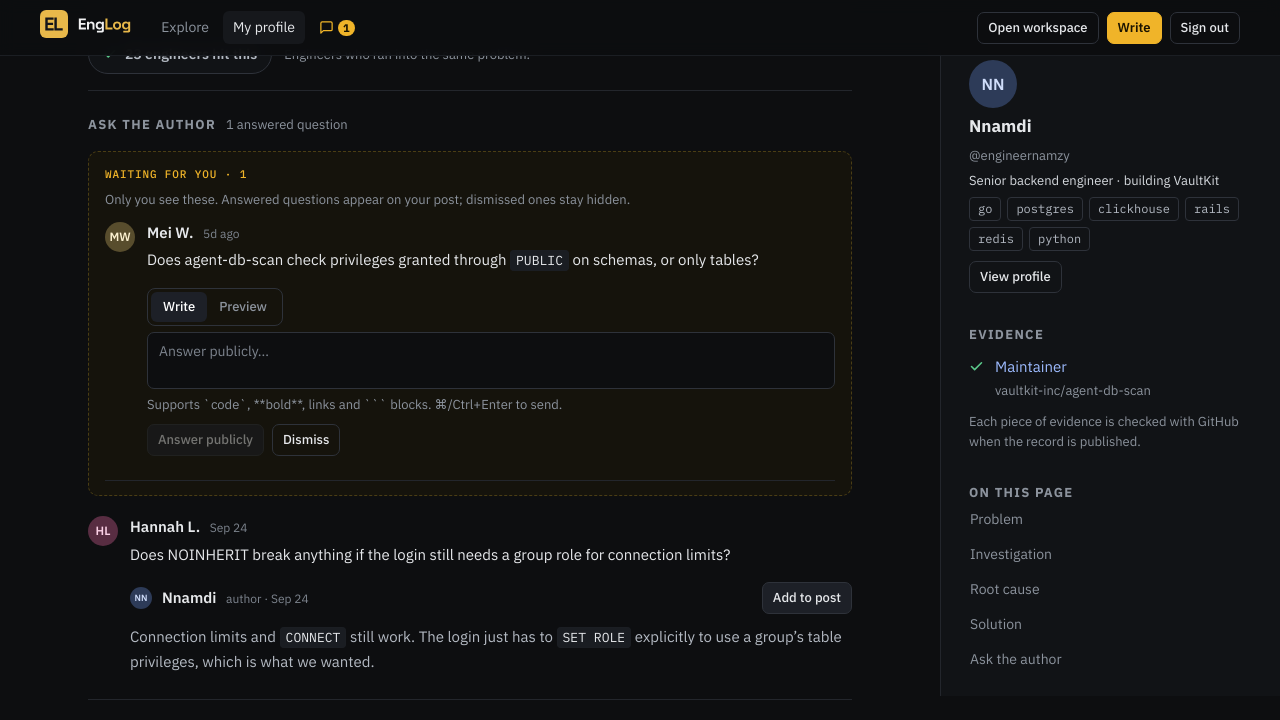
it: community features in the app › lets the author answer a waiting question and add it to the post
(page scrolled)
Expected: the text "Waiting for you · 1" is shown, [105, 167, 247, 181]
Type "Yes, schemas too." into the text box named "Your answer" at (491, 360), box [147, 332, 835, 388]
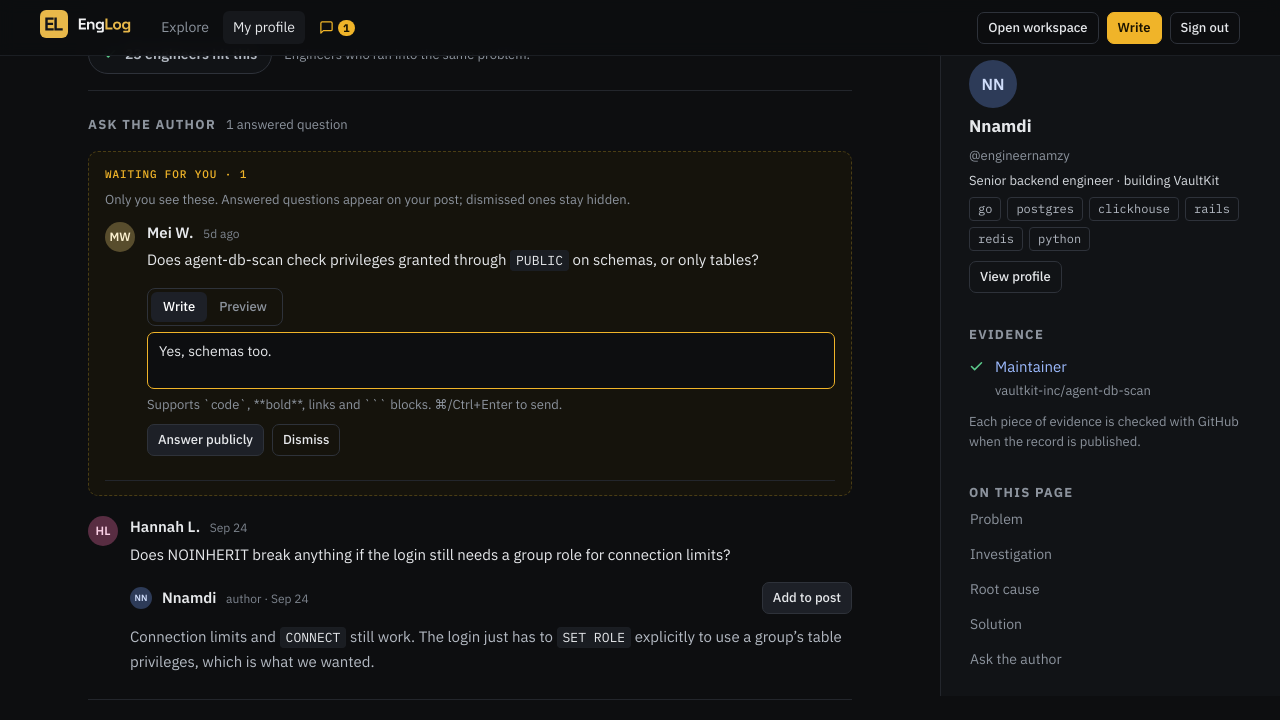
Click the button "Answer publicly" at (206, 440), box [147, 424, 264, 456]
(page scrolled)
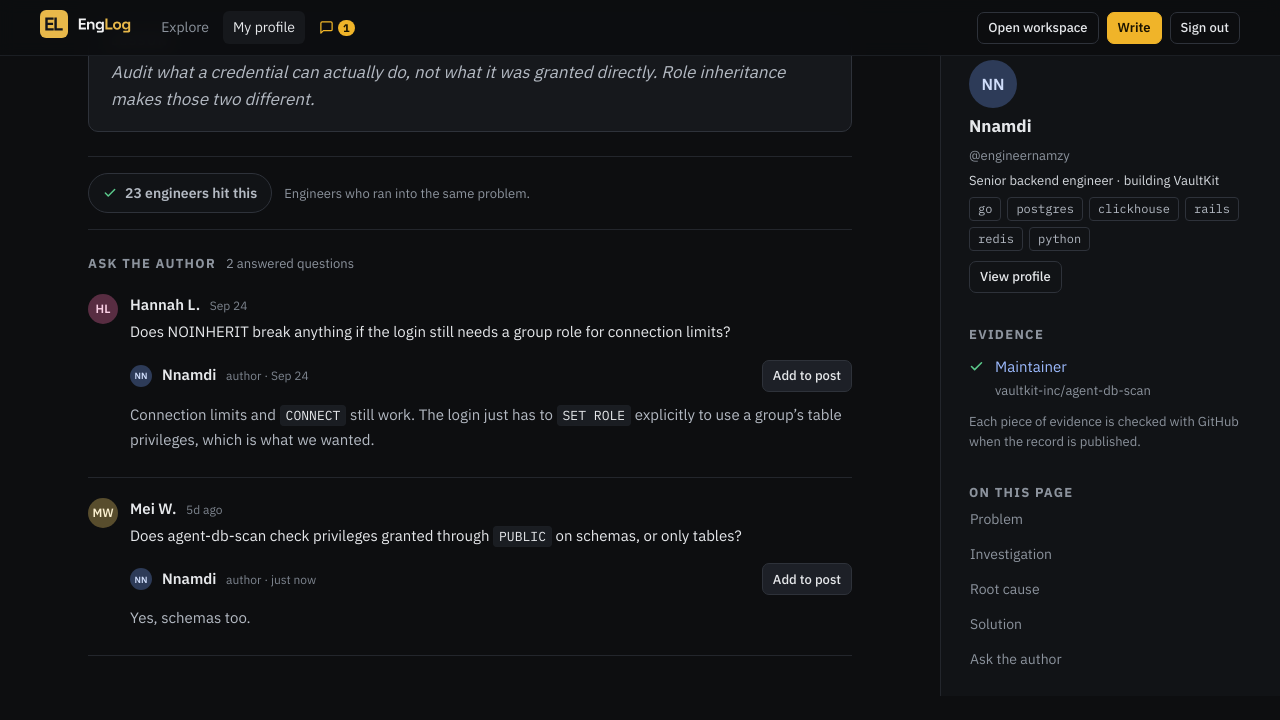
Click the button "Add to post" in the row of "just now" at (807, 579), box [762, 563, 852, 595]
(page scrolled)
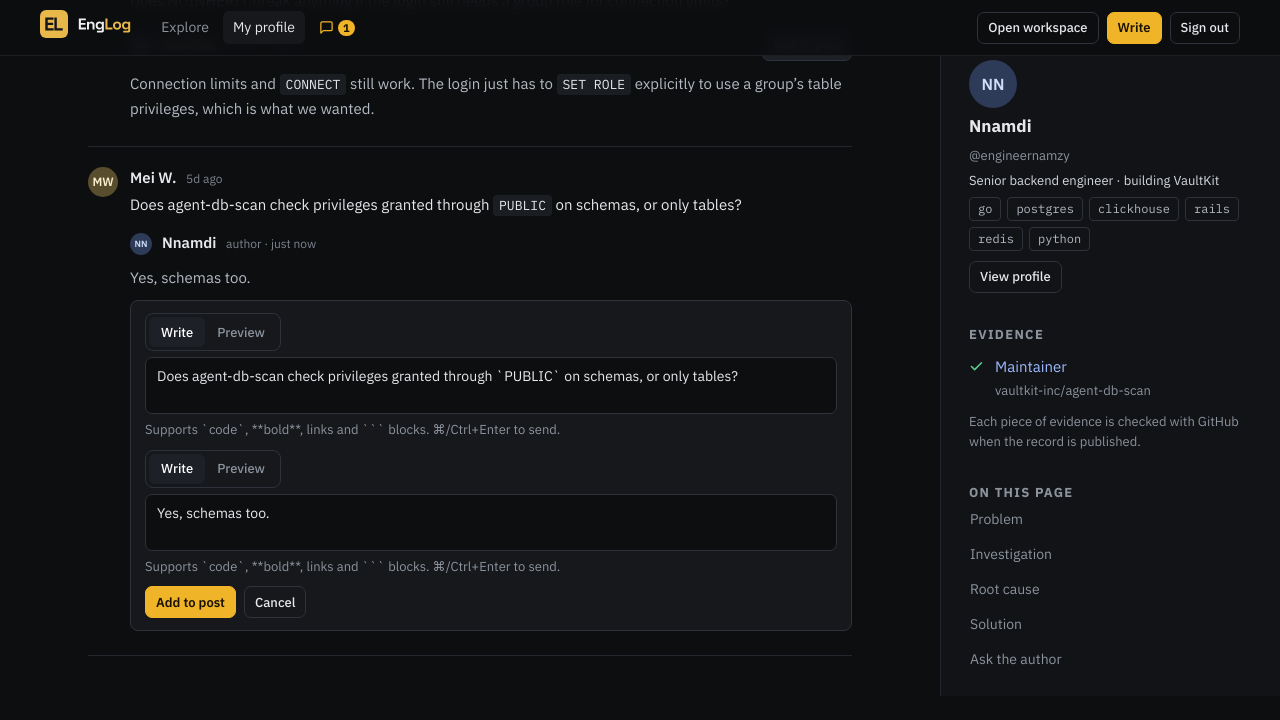
Click the button "Add to post" at (190, 602), box [145, 586, 236, 618]
(page scrolled)
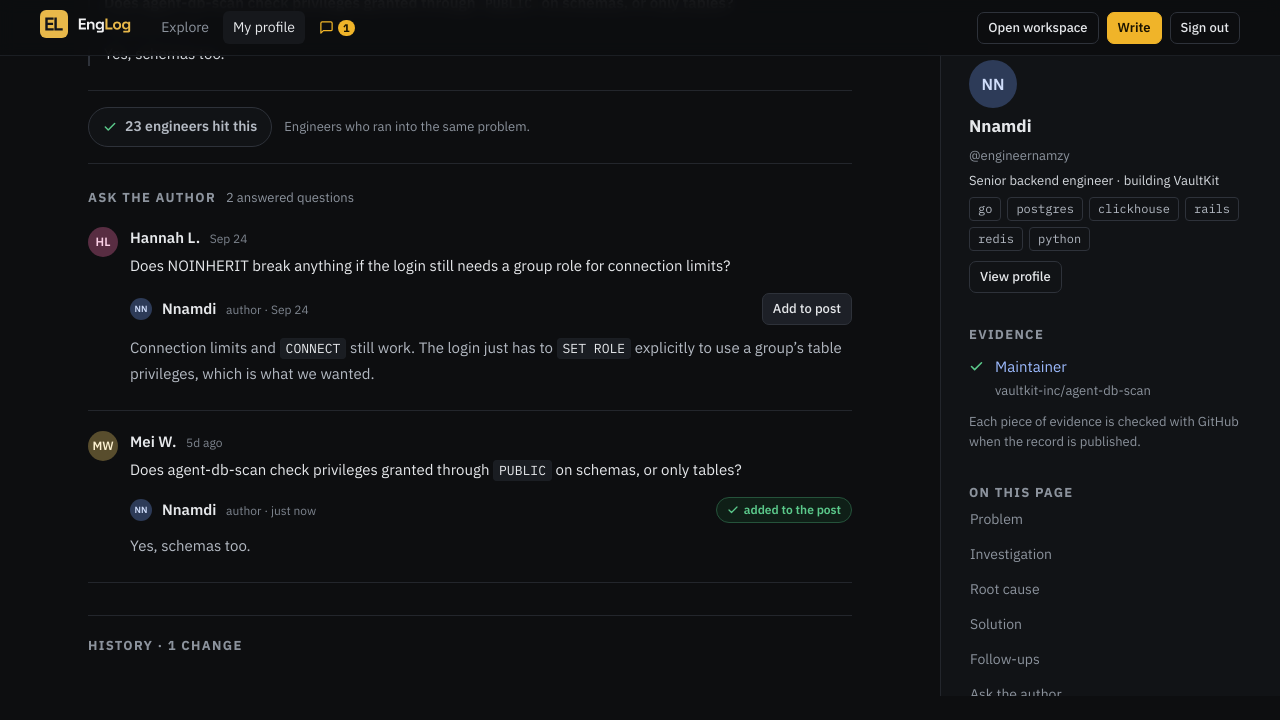
Click the heading "History · 1 change" at (165, 646), box [88, 637, 243, 654]
(page scrolled)
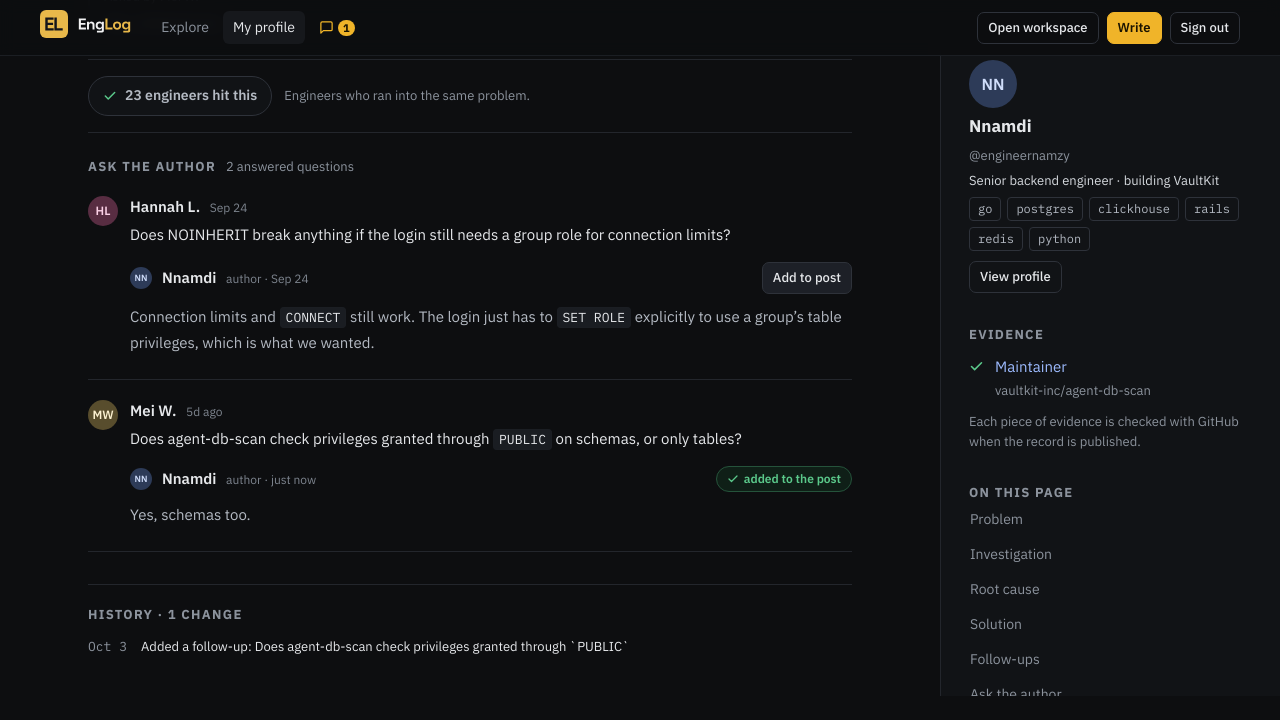
Expected: the text "Added a follow-up:" is shown, [141, 638, 630, 655]
